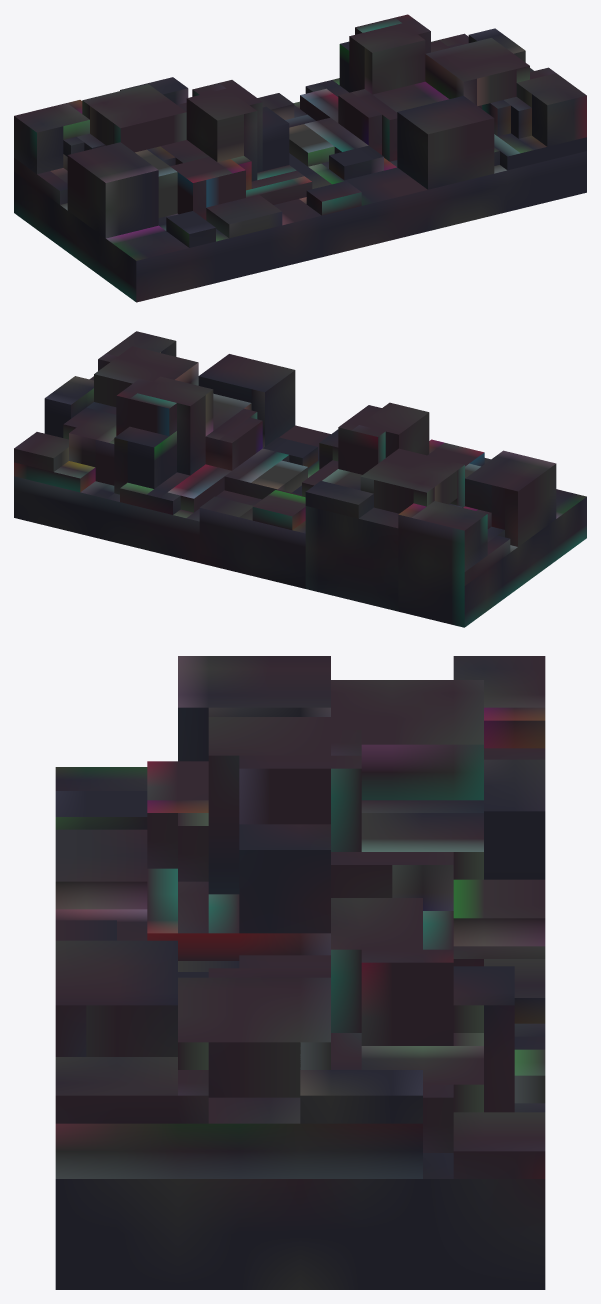
The model's file is Trash_F_00.fbx.
3 renders of one model, top to bottom at view 1: azimuth 30°, elevation 25°; view 2: azimuth 150°, elevation 25°; view 3: azimuth 270°, elevation 25°, orthographic. The views are drawn at different scales.
Parts seen in each view (by area): view 1: Trash_F_00; view 2: Trash_F_00; view 3: Trash_F_00.
Boxes of the visible parts, x1,y1,x2,y2 form: Trash_F_00: [14, 14, 586, 302]; Trash_F_00: [14, 331, 586, 627]; Trash_F_00: [55, 656, 545, 1289].
Bounding box in the file's own units: 170 × 45 × 80.
